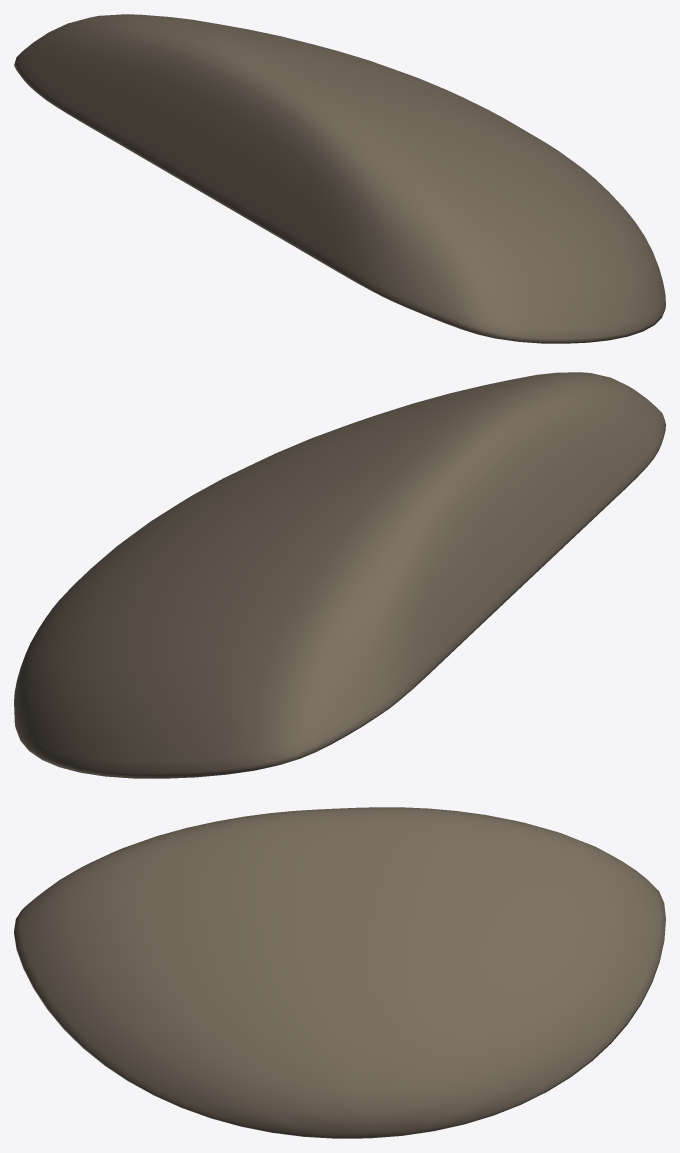
Rendered from Mushroom-slice11.obj.
3 renders of one model, top to bottom at view 1: azimuth 30°, elevation 25°; view 2: azimuth 150°, elevation 25°; view 3: azimuth 270°, elevation 25°, orthographic. The views are drawn at different scales.
Parts seen in each view (by area): view 1: Mushroom-slice11_Sphere.031; view 2: Mushroom-slice11_Sphere.031; view 3: Mushroom-slice11_Sphere.031.
Boxes of the visible parts, box(x1,y1,x2,y2) form: Mushroom-slice11_Sphere.031: box(14, 14, 665, 343); Mushroom-slice11_Sphere.031: box(14, 372, 665, 778); Mushroom-slice11_Sphere.031: box(14, 807, 665, 1138).
Bounding box in the file's own units: 0.0145 × 0.00815 × 0.0244.
